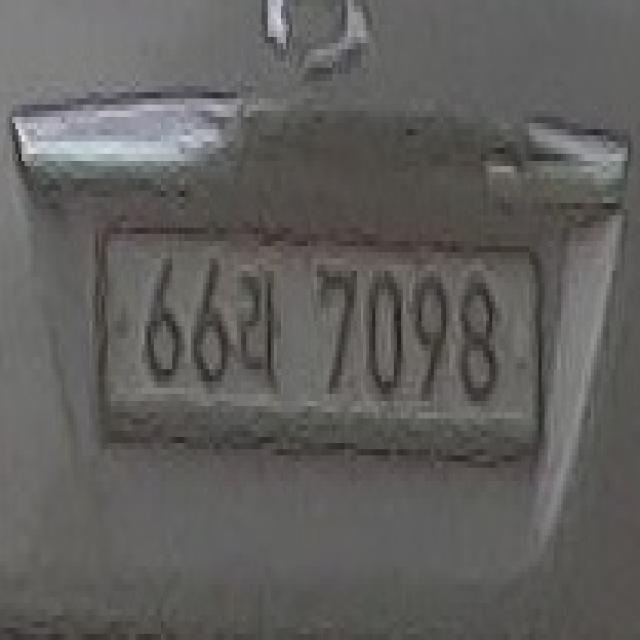plat: (91, 221, 544, 466)
